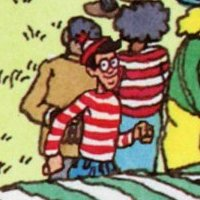waldo: (87, 35, 118, 89)
